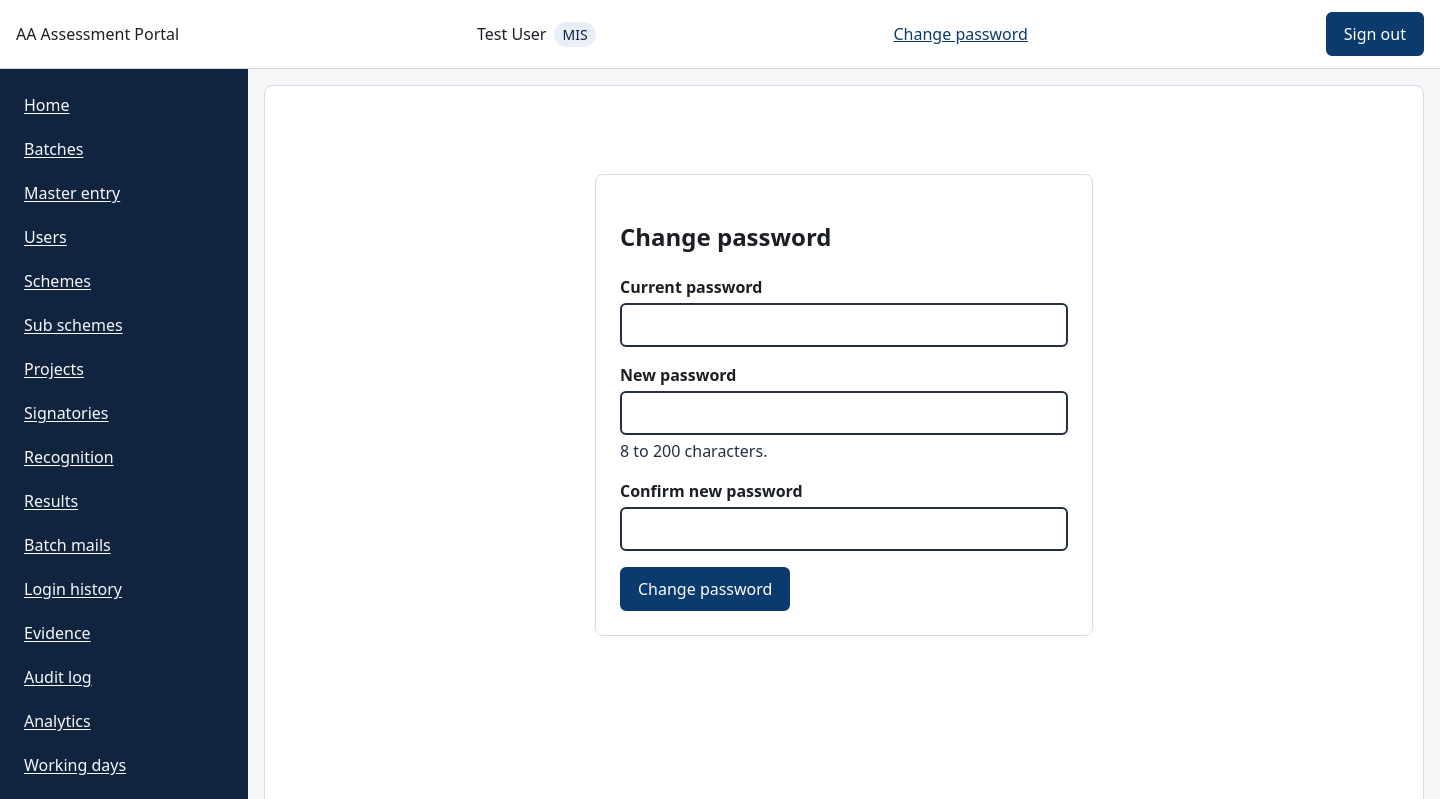
Test: shows a wrong current password as a field error and keeps the session
Expected: the heading "Change password" is shown, [620, 220, 832, 253]
Type "wrong-password" into the password field labelled "Current password".
click(844, 325); type("wrong-password")  # box [620, 303, 1068, 347]
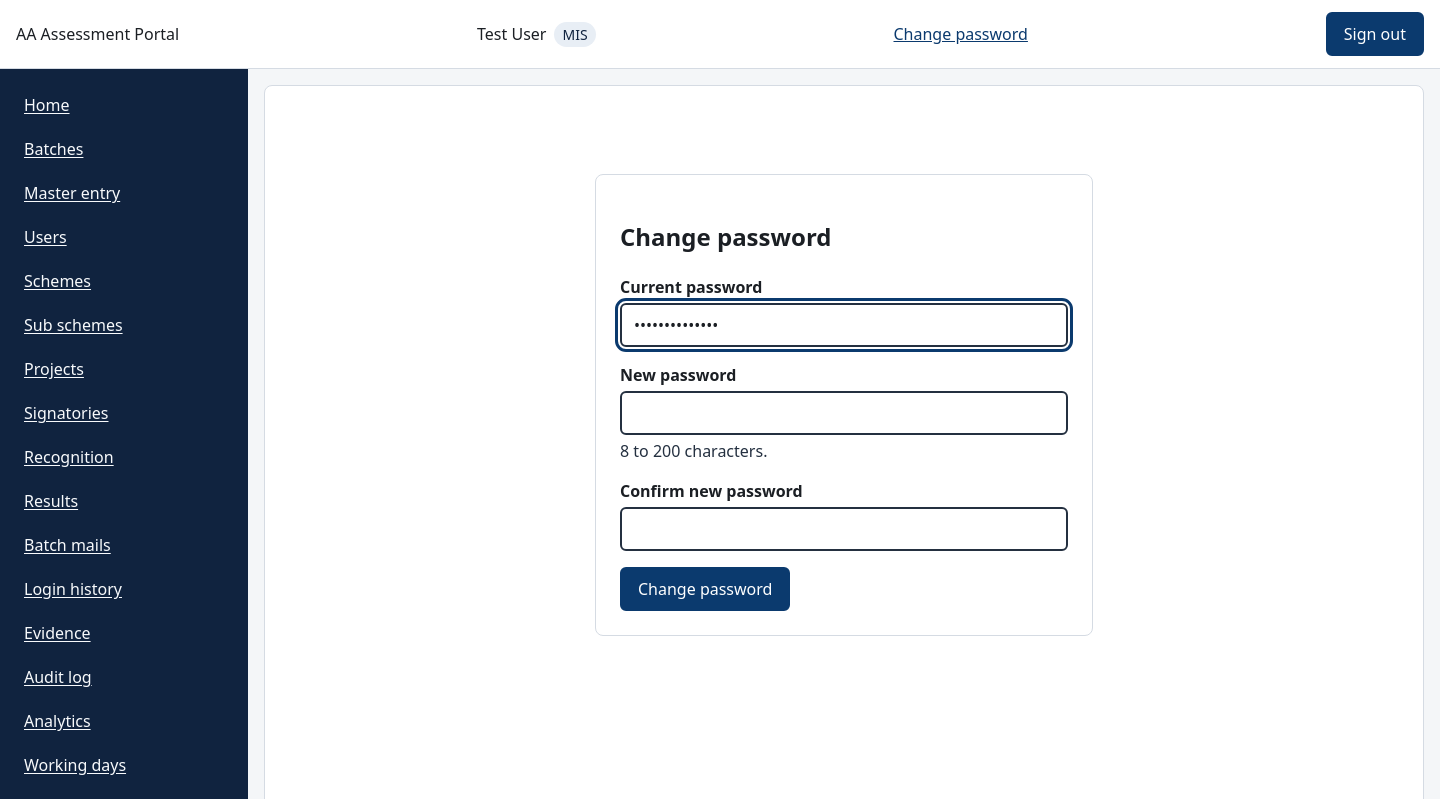
Type "new-password-2" into the password field labelled "New password".
click(844, 413); type("new-password-2")  # box [620, 391, 1068, 435]
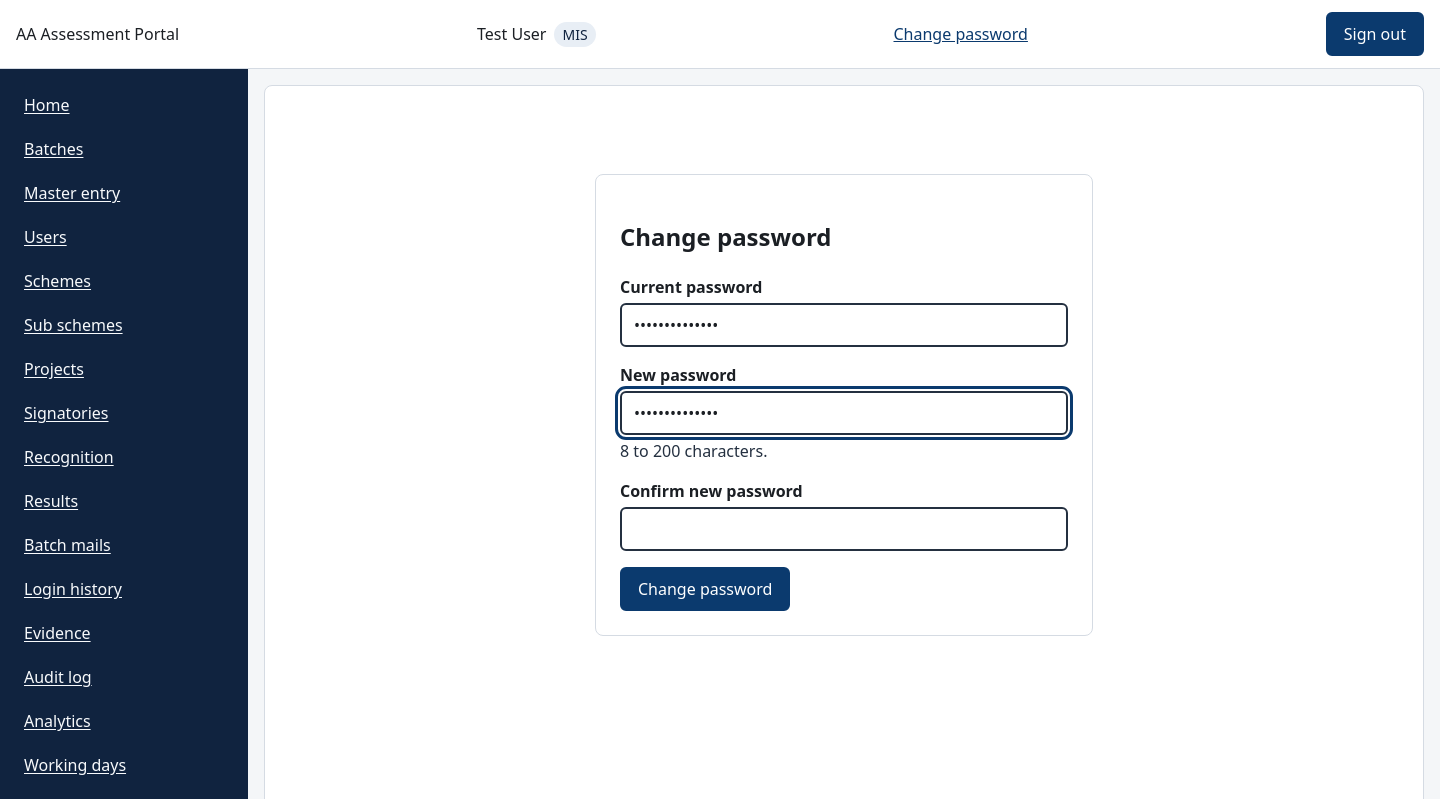
Type "new-password-2" into the password field labelled "Confirm new password".
click(844, 529); type("new-password-2")  # box [620, 507, 1068, 551]
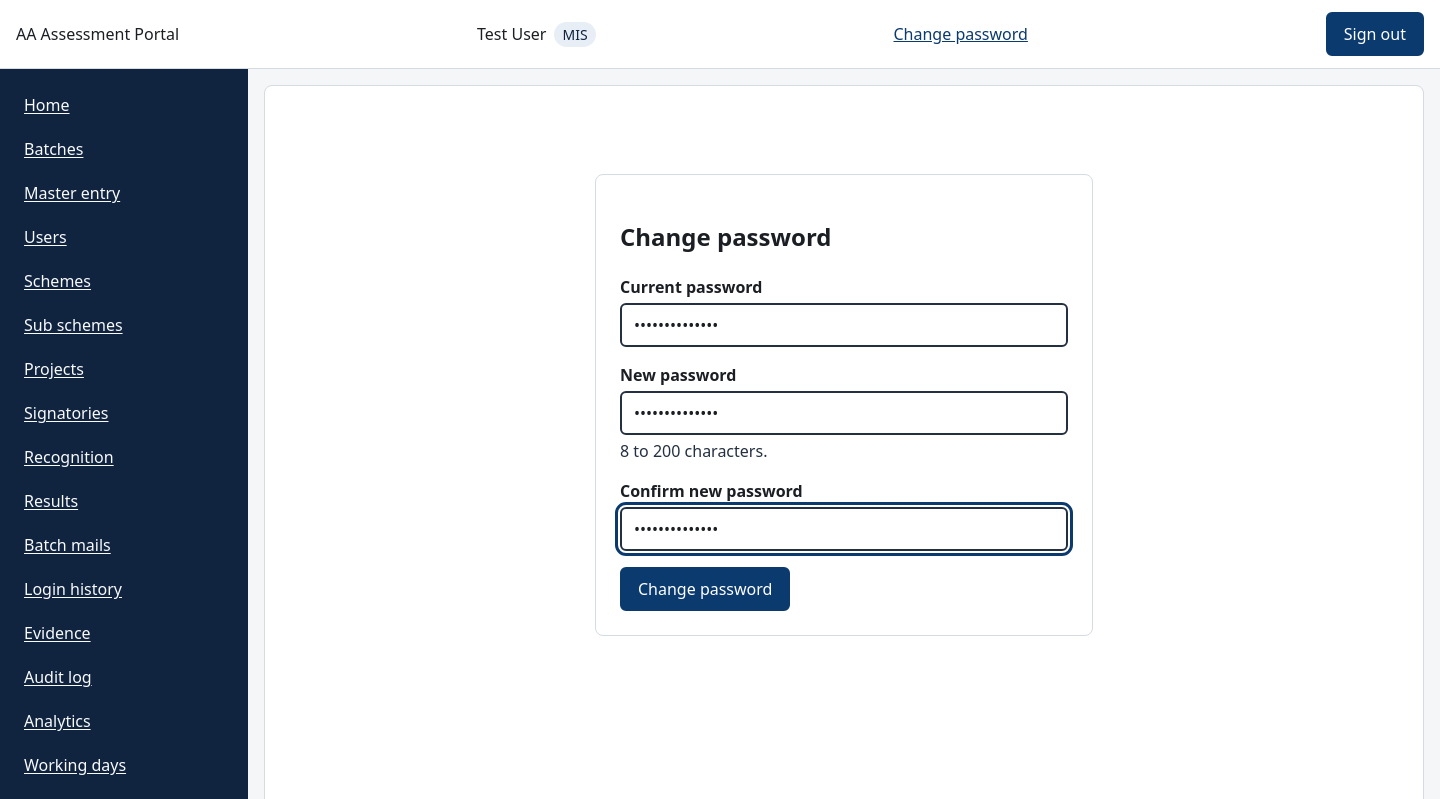
Click the button "Change password".
click(705, 589)  # box [620, 567, 790, 611]
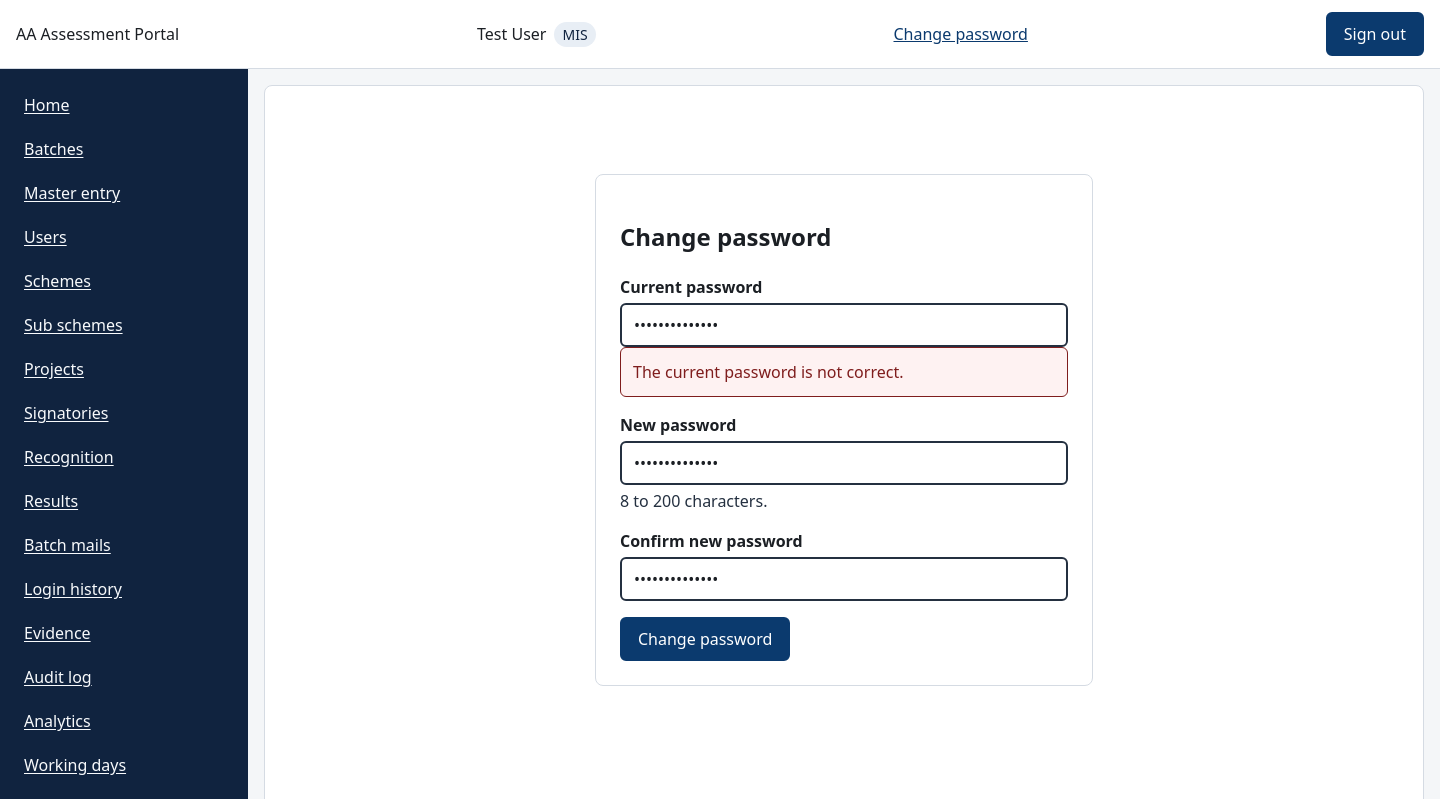
Expected: the heading "Change password" is shown, [620, 220, 832, 253]
Now the text "The current password is not correct." is shown, box [620, 347, 1068, 397]
